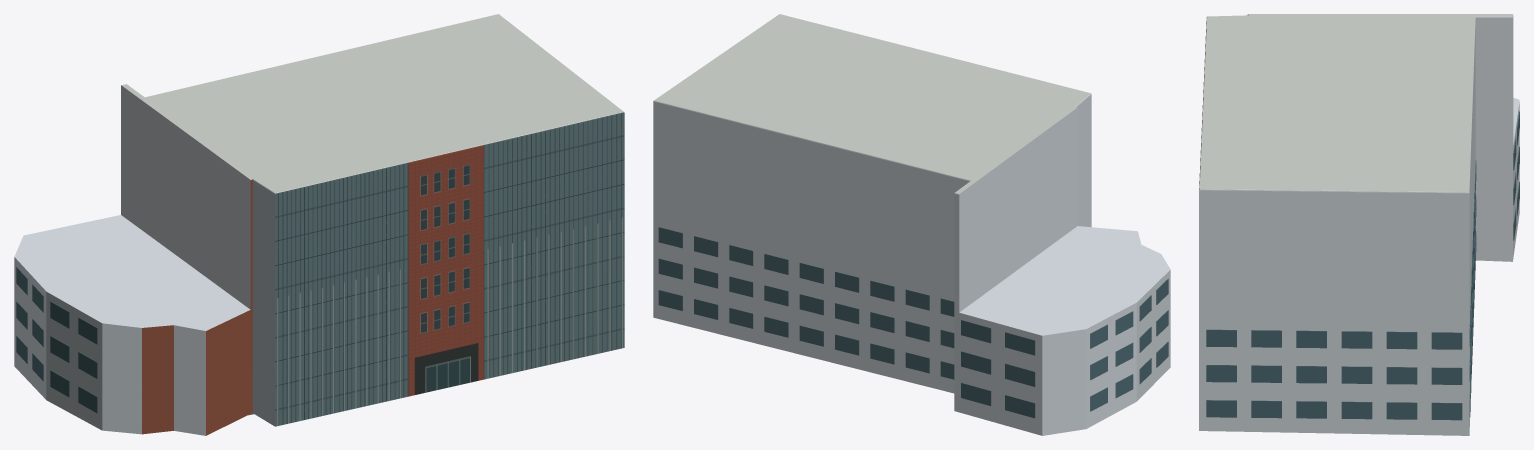
The model's file is fragments.glb.
3 renders of one model, left to right at view 1: azimuth 30°, elevation 25°; view 2: azimuth 150°, elevation 25°; view 3: azimuth 270°, elevation 25°, orthographic. The views are drawn at different scales.
Visible parts, largest first — view 1: SM_future_Fragment_005, SM_future_Fragment_031, SM_future_Fragment_049, SM_future_Fragment_040, SM_future_Fragment_022, SM_future_Fragment_047, SM_future_Fragment_039, SM_future_Fragment_007, SM_future_Fragment_038, SM_future_Fragment_055, SM_future_Fragment_001, SM_future_Fragment_041 (+24 smaller); view 2: SM_future_Fragment_001, SM_future_Fragment_026, SM_future_Fragment_057, SM_future_Fragment_003, SM_future_Fragment_050, SM_future_Fragment_029, SM_future_Fragment_012, SM_future_Fragment_052, SM_future_Fragment_014, SM_future_Fragment_027, SM_future_Fragment_037, SM_future_Fragment_041 (+24 smaller); view 3: SM_future_Fragment_054, SM_future_Fragment_036, SM_future_Fragment_006, SM_future_Fragment_024, SM_future_Fragment_017, SM_future_Fragment_012, SM_future_Fragment_004, SM_future_Fragment_027, SM_future_Fragment_053, SM_future_Fragment_021, SM_future_Fragment_001, SM_future_Fragment_055 (+16 smaller).
Part boxes in pixels (<box>): SM_future_Fragment_005: <box>75,308,219,435</box>; SM_future_Fragment_031: <box>145,293,290,428</box>; SM_future_Fragment_049: <box>373,150,465,293</box>; SM_future_Fragment_040: <box>255,234,376,351</box>; SM_future_Fragment_022: <box>293,149,401,272</box>; SM_future_Fragment_047: <box>445,256,565,377</box>; SM_future_Fragment_039: <box>516,179,624,293</box>; SM_future_Fragment_007: <box>204,150,299,279</box>; SM_future_Fragment_038: <box>443,131,542,268</box>; SM_future_Fragment_055: <box>468,86,576,202</box>; SM_future_Fragment_001: <box>113,107,186,266</box>; SM_future_Fragment_041: <box>132,93,253,208</box>; SM_future_Fragment_001: <box>904,209,1047,321</box>; SM_future_Fragment_026: <box>777,193,904,302</box>; SM_future_Fragment_057: <box>804,135,916,249</box>; SM_future_Fragment_003: <box>653,185,777,283</box>; SM_future_Fragment_050: <box>959,298,1087,386</box>; SM_future_Fragment_029: <box>653,93,765,194</box>; SM_future_Fragment_012: <box>889,122,978,231</box>; SM_future_Fragment_052: <box>729,247,838,359</box>; SM_future_Fragment_014: <box>723,96,820,203</box>; SM_future_Fragment_027: <box>653,209,734,335</box>; SM_future_Fragment_037: <box>1033,277,1159,349</box>; SM_future_Fragment_041: <box>969,121,1051,214</box>; SM_future_Fragment_054: <box>1311,220,1469,353</box>; SM_future_Fragment_036: <box>1199,169,1329,318</box>; SM_future_Fragment_006: <box>1199,316,1327,432</box>; SM_future_Fragment_024: <box>1317,155,1469,265</box>; SM_future_Fragment_017: <box>1303,353,1450,435</box>; SM_future_Fragment_012: <box>1355,14,1513,109</box>; SM_future_Fragment_004: <box>1212,80,1354,138</box>; SM_future_Fragment_027: <box>1396,313,1471,435</box>; SM_future_Fragment_053: <box>1243,28,1367,84</box>; SM_future_Fragment_021: <box>1332,69,1457,133</box>; SM_future_Fragment_001: <box>1474,38,1513,190</box>; SM_future_Fragment_055: <box>1200,121,1310,173</box>.
Size of the model in its own units: 2.2 by 1.02 by 1.21.
Materials: 5 (1 with a texture image).
